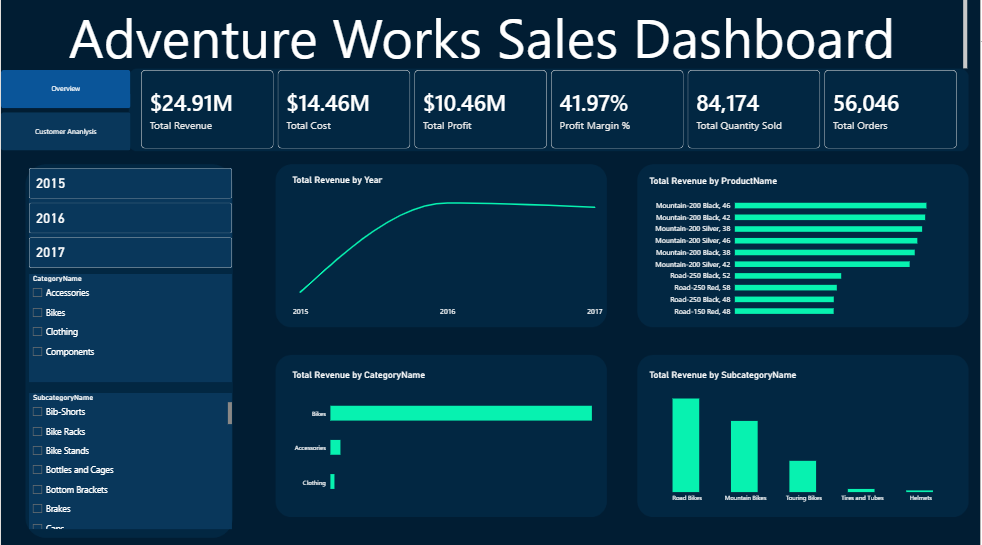

The dashboard page shown, as its layout file describes it:
{"tool":"powerbi","page":{"name":"Overview","canvas":[1920,1080],"ordinal":0},"visuals":[{"type":"cardVisual","fields":{"Data":["_Measures.Total Revenue","_Measures.Total Cost","_Measures.Total Profit","_Measures.Profit Margin %","_Measures.Total Quantity Sold","_Measures.Total Orders"]},"box":[274.6,139.2,1604.2,154.9],"z":0},{"type":"lineChart","fields":{"Category":["Dim_Date.Year"],"Y":["_Measures.Total Revenue"]},"box":[555,329.5,641.3,313.8],"z":1},{"type":"clusteredBarChart","fields":{"Category":["Products.CategoryName"],"Y":["_Measures.Total Revenue"]},"box":[555,711.9,627.6,296.1],"z":2},{"type":"clusteredBarChart","fields":{"Category":["Products.ProductName"],"Y":["_Measures.Total Revenue"]},"box":[1255.2,331.4,623.7,311.8],"z":3},{"type":"columnChart","fields":{"Category":["Products.SubcategoryName"],"Y":["_Measures.Total Revenue"]},"box":[1255.2,711.9,639.3,296.1],"z":4},{"type":"advancedSlicerVisual","fields":{"Values":["Dim_Date.Year"]},"box":[54.9,331.4,398.1,196.1],"z":5},{"type":"slicer","fields":{"Values":["Products.CategoryName"]},"box":[54.9,539.3,398.1,211.8],"z":6},{"type":"slicer","fields":{"Values":["Products.SubcategoryName"]},"box":[54.9,772.7,398.1,266.7],"z":7},{"type":"pageNavigator","box":[0,139.2,255,158.9],"z":8},{"type":"textbox","box":[0,0,1894.5,139.2],"z":9}]}

Visuals, with their boxes in screenshot pixels (x1, y1, x2, y2), scaled from the page's 1920x1080 canvas onto the 982x545 screenshot:
cardVisual - _Measures.Total Revenue x _Measures.Total Cost: x1=140, y1=70, x2=961, y2=148
lineChart - Dim_Date.Year x _Measures.Total Revenue: x1=284, y1=166, x2=612, y2=325
clusteredBarChart - Products.CategoryName x _Measures.Total Revenue: x1=284, y1=359, x2=605, y2=509
clusteredBarChart - Products.ProductName x _Measures.Total Revenue: x1=642, y1=167, x2=961, y2=325
columnChart - Products.SubcategoryName x _Measures.Total Revenue: x1=642, y1=359, x2=969, y2=509
advancedSlicerVisual - Dim_Date.Year: x1=28, y1=167, x2=232, y2=266
slicer - Products.CategoryName: x1=28, y1=272, x2=232, y2=379
slicer - Products.SubcategoryName: x1=28, y1=390, x2=232, y2=525
pageNavigator: x1=0, y1=70, x2=130, y2=150
textbox: x1=0, y1=0, x2=969, y2=70
